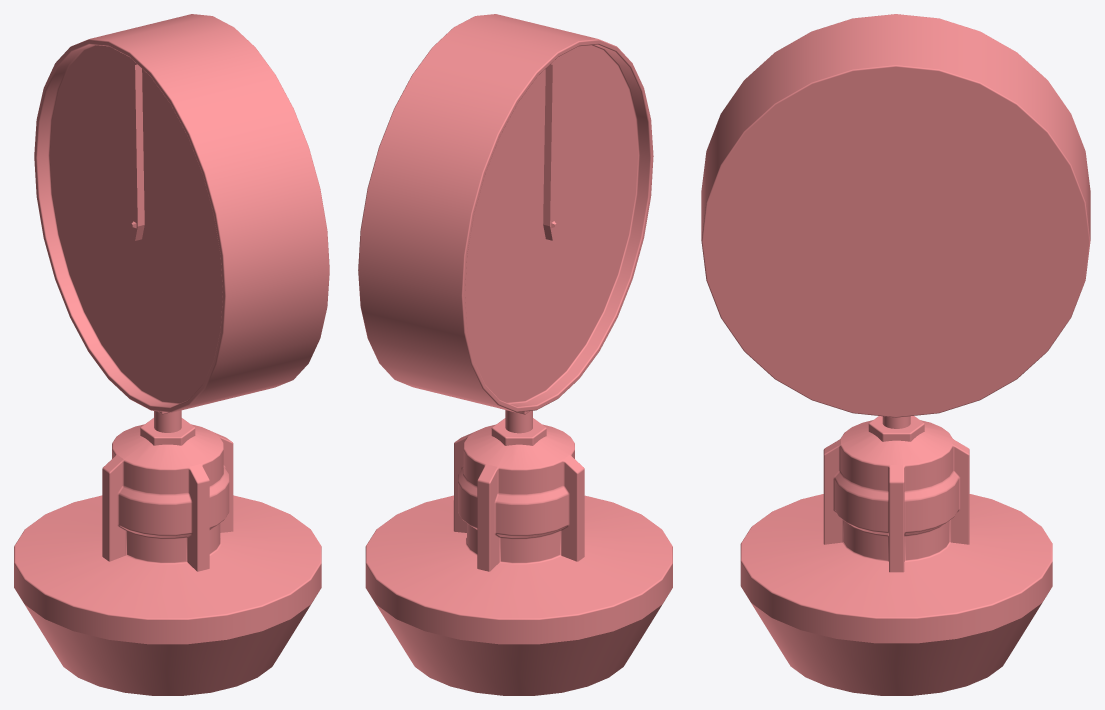
Rendered from Pressure-Bottom.fbx.
3 views of the same model, side by side, from view 1: azimuth 30°, elevation 25°; view 2: azimuth 150°, elevation 25°; view 3: azimuth 270°, elevation 25° (orthographic).
Visible parts, largest first — view 1: Pressure-Bottom, Pressure-Bottom-Pointer; view 2: Pressure-Bottom, Pressure-Bottom-Pointer; view 3: Pressure-Bottom.
Part boxes in pixels (x1,y1,x2,y2): Pressure-Bottom: (14, 14, 329, 695); Pressure-Bottom-Pointer: (131, 64, 144, 240); Pressure-Bottom: (358, 14, 672, 695); Pressure-Bottom-Pointer: (543, 64, 556, 240); Pressure-Bottom: (701, 14, 1090, 695).
Bounding box in the file's own units: 10.96 × 23.83 × 13.66.
